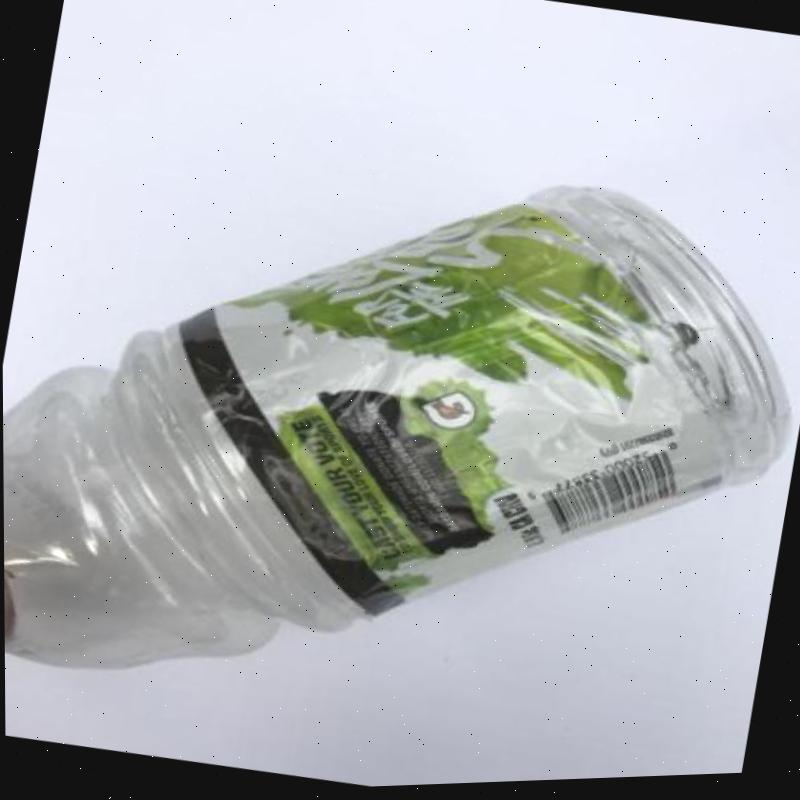botella: (1, 84, 800, 800)
